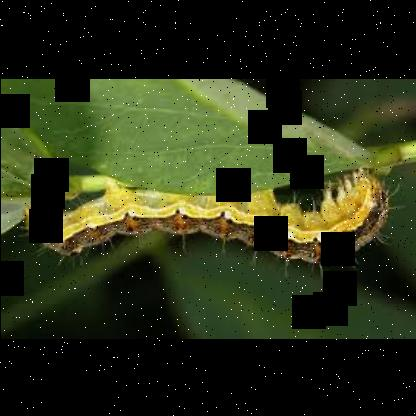oruga: (19, 168, 393, 274)
